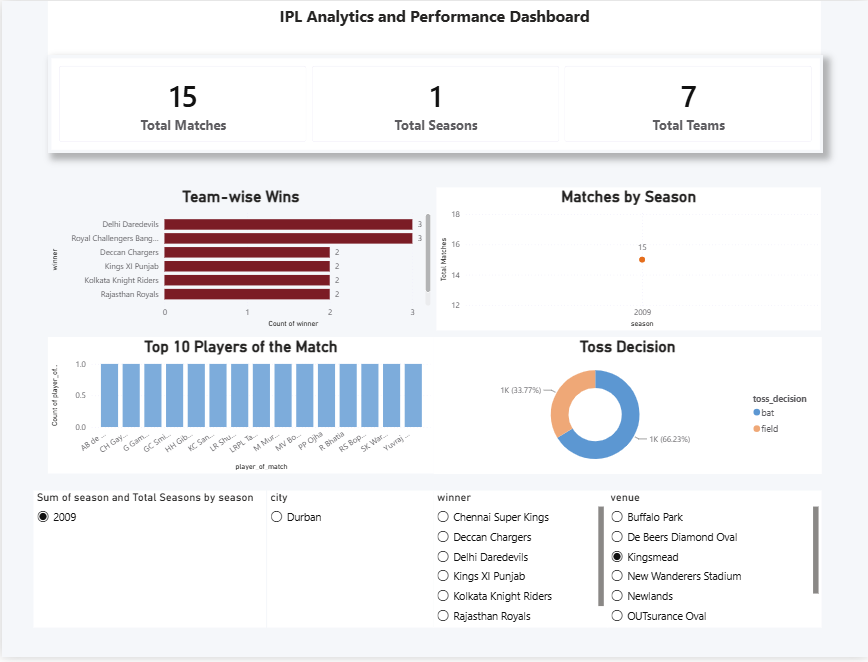

This screenshot's page, from the dashboard's own definition file:
{"tool":"powerbi","page":{"name":"Page 1","canvas":[1320,1000],"ordinal":0},"visuals":[{"type":"textbox","box":[70,0,1178,82],"z":0},{"type":"cardVisual","fields":{"Data":["matches.Total Matches","matches.Total Seasons","matches.Total Teams"]},"box":[70,82,1182,150],"z":1000},{"type":"clusteredBarChart","title":"Team-wise Wins","fields":{"Category":["matches.winner"],"Y":["CountNonNull(matches.winner)"]},"box":[70,284,588,218],"z":2000},{"type":"lineChart","title":"Matches by Season","fields":{"Category":["matches.season"],"Y":["matches.Total Matches"]},"box":[662,284,586,218],"z":3000},{"type":"columnChart","title":"Top 10 Players of the Match","fields":{"Category":["matches.player_of_match"],"Y":["CountNonNull(matches.player_of_match)"]},"box":[70,512,588,208],"z":4000},{"type":"donutChart","title":"Toss Decision","fields":{"Category":["matches.toss_decision"],"Y":["Sum(matches.id)"]},"box":[657,511,591,209],"z":5000},{"type":"listSlicer","fields":{"Values":["matches.season"]},"box":[48.6,745.7,354.3,208.6],"z":6000},{"type":"listSlicer","fields":{"Values":["matches.city"]},"box":[403,746,254,209],"z":7000},{"type":"listSlicer","fields":{"Values":["matches.winner"]},"box":[657.1,745.7,264.3,208.6],"z":8000},{"type":"listSlicer","fields":{"Values":["matches.venue"]},"box":[921,746,327,209],"z":9000}]}

Visuals, with their boxes in screenshot pixels (x1, y1, x2, y2), scaled from the page's 1320x1000 canvas onto the 868x662 screenshot:
textbox: pyautogui.locateOnScreen(46, 0, 821, 54)
cardVisual - matches.Total Matches x matches.Total Seasons: pyautogui.locateOnScreen(46, 54, 823, 154)
"Team-wise Wins" clusteredBarChart: pyautogui.locateOnScreen(46, 188, 433, 332)
"Matches by Season" lineChart: pyautogui.locateOnScreen(435, 188, 821, 332)
"Top 10 Players of the Match" columnChart: pyautogui.locateOnScreen(46, 339, 433, 477)
"Toss Decision" donutChart: pyautogui.locateOnScreen(432, 338, 821, 477)
listSlicer - matches.season: pyautogui.locateOnScreen(32, 494, 265, 632)
listSlicer - matches.city: pyautogui.locateOnScreen(265, 494, 432, 632)
listSlicer - matches.winner: pyautogui.locateOnScreen(432, 494, 606, 632)
listSlicer - matches.venue: pyautogui.locateOnScreen(606, 494, 821, 632)
